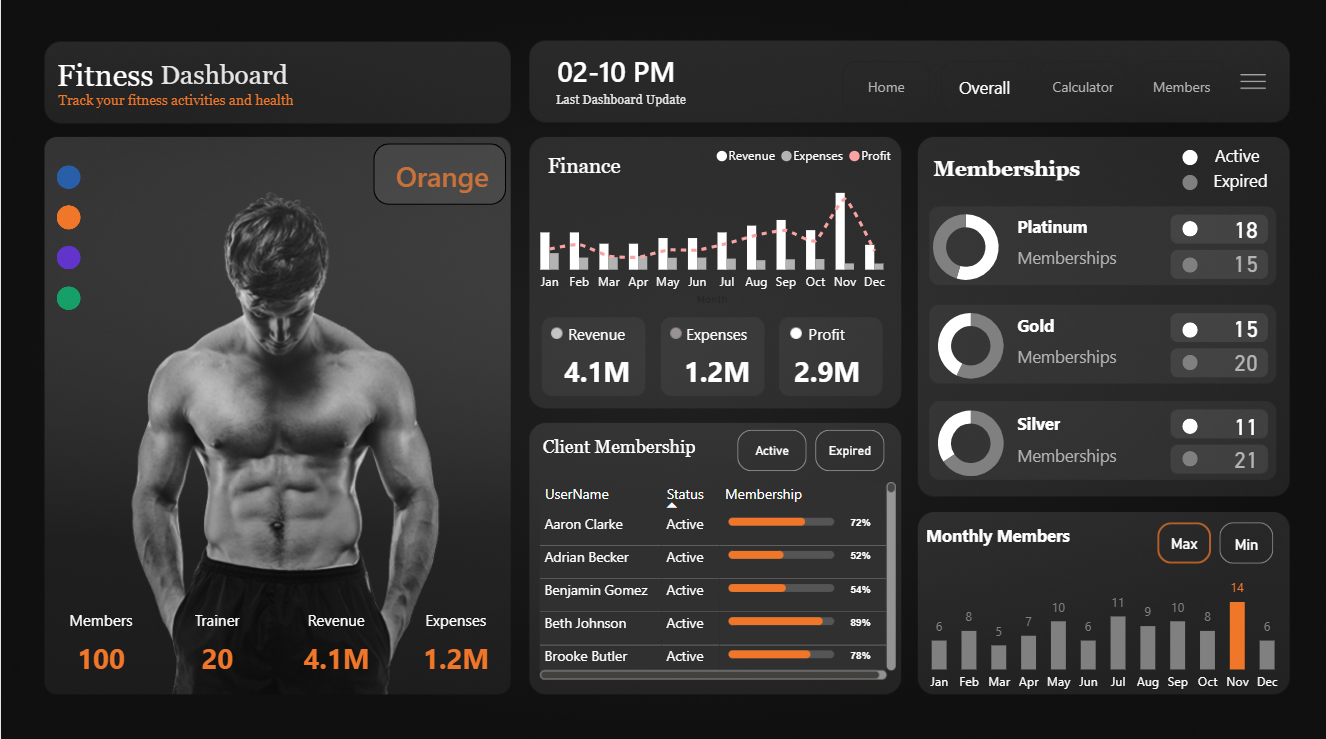

This screenshot's page, from the dashboard's own definition file:
{"tool":"powerbi","page":{"name":"Overall","canvas":[1280,720],"ordinal":1},"visuals":[{"type":"cardVisual","fields":{"Data":["_Measure.Users_Count"]},"box":[46.7,575,99,89],"z":0},{"type":"cardVisual","fields":{"Data":["Count(Users.Trainer Name)"]},"box":[159.6,575,99,89],"z":1000},{"type":"cardVisual","fields":{"Data":["_Measure.Revenue"]},"box":[273.1,575,102.9,89.2],"z":2000},{"type":"cardVisual","fields":{"Data":["_Measure.Expenses"]},"box":[386.1,575.5,106.2,88.1],"z":3000},{"type":"cardVisual","fields":{"Data":["_Measure.Revenue"]},"box":[525.6,299.1,98.8,87.8],"z":4000},{"type":"cardVisual","fields":{"Data":["_Measure.Expenses"]},"box":[642,299.1,98.8,87.8],"z":5000},{"type":"cardVisual","fields":{"Data":["_Measure.Profit"]},"box":[748,299.1,98.8,87.8],"z":6000},{"type":"lineClusteredColumnComboChart","fields":{"Y":["_Measure.Revenue","_Measure.Expenses"],"Y2":["_Measure.Profit"],"Category":["Calendar.Month"]},"box":[509.1,133.1,359.5,166],"z":7000},{"type":"shape","box":[513.9,142.4,97.7,41],"z":8000},{"type":"clusteredColumnChart","fields":{"Y":["_Measure.Users_Count"],"Category":["Calendar.Month"]},"box":[886.7,548.9,359.5,127.9],"z":9000},{"type":"shape","box":[886.5,500,150.9,41.2],"z":10000},{"type":"advancedSlicerVisual","fields":{"Values":["Min_Max_Switch.Type"]},"box":[1111,503,122,50],"z":11000},{"type":"tableEx","fields":{"Values":["Users.UserName","Users.Status","_Measure.SVG_BarChart1"]},"box":[513.9,464.5,354.7,200.3],"z":12000},{"type":"advancedSlicerVisual","fields":{"Values":["Users.Status"]},"box":[705.8,413.8,152,50.7],"z":13000},{"type":"shape","box":[513.9,415,165.3,41],"z":14000},{"type":"shape","box":[981,201.5,150.8,41],"z":15000},{"type":"shape","box":[981,296.8,150.8,41],"z":16000},{"type":"shape","box":[981,392.1,150.8,41],"z":17000},{"type":"shape","box":[981,231.6,150.8,41],"z":18000},{"type":"shape","box":[981,326.9,150.8,41],"z":19000},{"type":"shape","box":[981,422.3,150.8,41],"z":20000},{"type":"donutChart","fields":{"Y":["_Measure.User_Platinum"],"Category":["Users.Status"]},"box":[886.7,197.9,89.3,89.3],"z":21000},{"type":"donutChart","fields":{"Category":["Users.Status"],"Y":["_Measure.User_Gold"]},"box":[891.6,293.2,89.3,89.3],"z":22000},{"type":"donutChart","fields":{"Category":["Users.Status"],"Y":["_Measure.User_Silver"]},"box":[891.6,387.3,89.3,89.3],"z":23000},{"type":"card","fields":{"Values":["_Measure.Active_Platinum"]},"box":[1175.1,212.3,53.1,27.7],"z":24000},{"type":"card","fields":{"Values":["_Measure.Expired_Platinum"]},"box":[1175.1,244.9,53.1,27.7],"z":25000},{"type":"card","fields":{"Values":["_Measure.Active_Gold"]},"box":[1175.1,308.2,53.1,27.7],"z":26000},{"type":"card","fields":{"Values":["_Measure.Expired_Gold"]},"box":[1175.1,340.5,53.1,27.7],"z":27000},{"type":"card","fields":{"Values":["_Measure.Active_Silver"]},"box":[1175.1,402.2,53.1,27.7],"z":28000},{"type":"card","fields":{"Values":["_Measure.Expired_Silver"]},"box":[1175.1,434.4,53.1,27.7],"z":29000},{"type":"shape","box":[1140,217,15,15],"z":30000},{"type":"shape","box":[1140,251.7,15,15],"z":31000},{"type":"shape","box":[1140,314.4,15,15],"z":32000},{"type":"shape","box":[1140,346.3,15,15],"z":33000},{"type":"shape","box":[1140,407.7,15,15],"z":34000},{"type":"shape","box":[1140,439.6,15,15],"z":35000},{"type":"shape","box":[900,146.2,150,41.2],"z":36000},{"type":"shape","box":[1140,148.5,15,15],"z":37000},{"type":"shape","box":[1171.5,136.3,83,34],"z":38000},{"type":"shape","box":[1140,172.8,15,15],"z":39000},{"type":"shape","box":[1170.5,160.6,83,34],"z":40000},{"type":"image","box":[1185,62.5,48.8,41.2],"z":41000},{"type":"shape","box":[51.9,55.5,97.7,41],"z":42000},{"type":"shape","box":[146,55.5,138.7,41],"z":43000},{"type":"shape","box":[527.2,50.7,132.7,41],"z":44000},{"type":"shape","box":[535.7,92.9,132.7,20.5],"z":45000},{"type":"pageNavigator","box":[811.9,62.7,372.8,50.7],"z":46000},{"type":"advancedSlicerVisual","fields":{"Values":["ColorCodes.Icon"]},"box":[47.1,154.4,37.4,154.4],"z":47000},{"type":"shape","box":[359.5,152,132.7,41],"z":48000},{"type":"shape","box":[359.5,142.4,127.9,59.1],"z":49000},{"type":"shape","box":[54.3,92.9,229.2,20.5],"z":50000}]}

Visuals, with their boxes in screenshot pixels (x1, y1, x2, y2), scaled from the page's 1280x720 canvas onto the 1326x739 screenshot:
cardVisual - _Measure.Users_Count: [left=48, top=590, right=151, bottom=682]
cardVisual - Count(Users.Trainer Name): [left=165, top=590, right=268, bottom=682]
cardVisual - _Measure.Revenue: [left=283, top=590, right=390, bottom=682]
cardVisual - _Measure.Expenses: [left=400, top=591, right=510, bottom=681]
cardVisual - _Measure.Revenue: [left=544, top=307, right=647, bottom=397]
cardVisual - _Measure.Expenses: [left=665, top=307, right=767, bottom=397]
cardVisual - _Measure.Profit: [left=775, top=307, right=877, bottom=397]
lineClusteredColumnComboChart - _Measure.Revenue x _Measure.Expenses: [left=527, top=137, right=900, bottom=307]
shape: [left=532, top=146, right=634, bottom=188]
clusteredColumnChart - _Measure.Users_Count x Calendar.Month: [left=919, top=563, right=1291, bottom=695]
shape: [left=918, top=513, right=1075, bottom=555]
advancedSlicerVisual - Min_Max_Switch.Type: [left=1151, top=516, right=1277, bottom=568]
tableEx - Users.UserName x Users.Status: [left=532, top=477, right=900, bottom=682]
advancedSlicerVisual - Users.Status: [left=731, top=425, right=889, bottom=477]
shape: [left=532, top=426, right=704, bottom=468]
shape: [left=1016, top=207, right=1172, bottom=249]
shape: [left=1016, top=305, right=1172, bottom=347]
shape: [left=1016, top=402, right=1172, bottom=445]
shape: [left=1016, top=238, right=1172, bottom=280]
shape: [left=1016, top=336, right=1172, bottom=378]
shape: [left=1016, top=433, right=1172, bottom=476]
donutChart - _Measure.User_Platinum x Users.Status: [left=919, top=203, right=1011, bottom=295]
donutChart - Users.Status x _Measure.User_Gold: [left=924, top=301, right=1016, bottom=393]
donutChart - Users.Status x _Measure.User_Silver: [left=924, top=398, right=1016, bottom=489]
card - _Measure.Active_Platinum: [left=1217, top=218, right=1272, bottom=246]
card - _Measure.Expired_Platinum: [left=1217, top=251, right=1272, bottom=280]
card - _Measure.Active_Gold: [left=1217, top=316, right=1272, bottom=345]
card - _Measure.Expired_Gold: [left=1217, top=349, right=1272, bottom=378]
card - _Measure.Active_Silver: [left=1217, top=413, right=1272, bottom=441]
card - _Measure.Expired_Silver: [left=1217, top=446, right=1272, bottom=474]
shape: [left=1181, top=223, right=1197, bottom=238]
shape: [left=1181, top=258, right=1197, bottom=274]
shape: [left=1181, top=323, right=1197, bottom=338]
shape: [left=1181, top=355, right=1197, bottom=371]
shape: [left=1181, top=418, right=1197, bottom=434]
shape: [left=1181, top=451, right=1197, bottom=467]
shape: [left=932, top=150, right=1088, bottom=192]
shape: [left=1181, top=152, right=1197, bottom=168]
shape: [left=1214, top=140, right=1300, bottom=175]
shape: [left=1181, top=177, right=1197, bottom=193]
shape: [left=1213, top=165, right=1299, bottom=200]
image: [left=1228, top=64, right=1278, bottom=106]
shape: [left=54, top=57, right=155, bottom=99]
shape: [left=151, top=57, right=295, bottom=99]
shape: [left=546, top=52, right=684, bottom=94]
shape: [left=555, top=95, right=692, bottom=116]
pageNavigator: [left=841, top=64, right=1227, bottom=116]
advancedSlicerVisual - ColorCodes.Icon: [left=49, top=158, right=88, bottom=317]
shape: [left=372, top=156, right=510, bottom=198]
shape: [left=372, top=146, right=505, bottom=207]
shape: [left=56, top=95, right=294, bottom=116]
